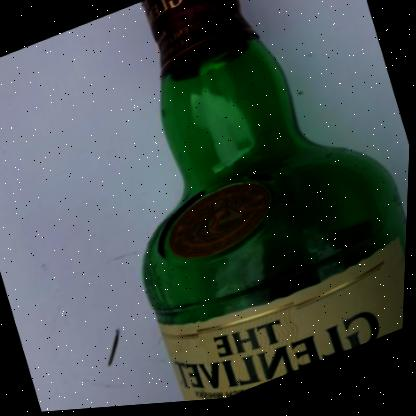Glass: (143, 0, 408, 404)
